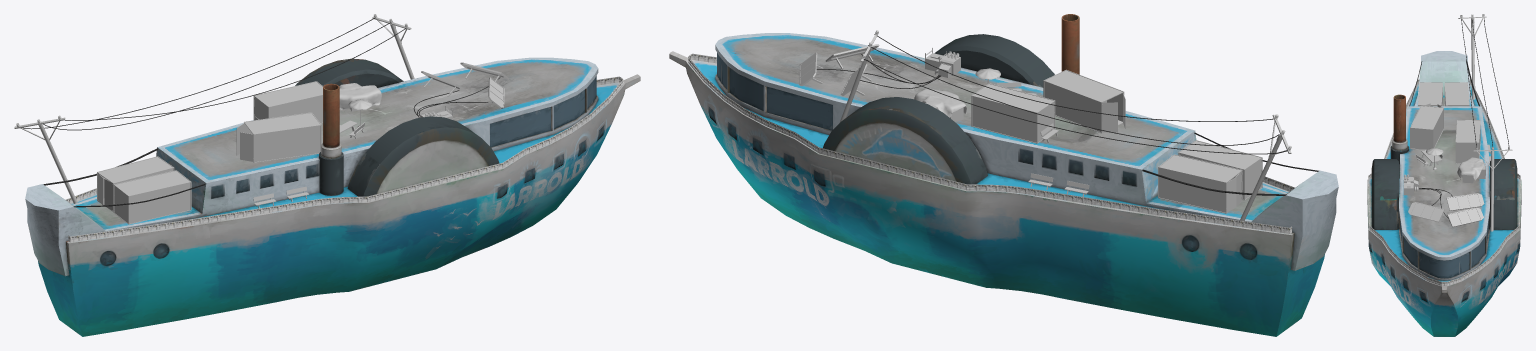
File: ShipLarge03.fbx
3 renders of one model, left to right at view 1: azimuth 30°, elevation 25°; view 2: azimuth 150°, elevation 25°; view 3: azimuth 270°, elevation 25°, orthographic. The views are drawn at different scales.
Parts seen in each view (by area): view 1: BoatL03, ContainersStatic, Rail, ContainerP2, PowerAssets, Powerline, DeckAssets01, ContainerP1; view 2: BoatL03, ContainersStatic, Rail, ContainerP1, ContainerP2, PowerAssets, Powerline, DeckAssets01, Cube.011; view 3: BoatL03, PowerAssets, ContainersStatic, ContainerP2, Rail, DeckAssets01, Powerline, ContainerP1.
Part boxes in pixels (box(x1,y1,x2,y2)): BoatL03: box(25, 57, 640, 336); ContainersStatic: box(113, 81, 323, 224); Rail: box(65, 76, 623, 242); ContainerP2: box(244, 112, 321, 162); PowerAssets: box(14, 14, 509, 203); Powerline: box(22, 18, 500, 207); DeckAssets01: box(253, 83, 381, 208); ContainerP1: box(97, 156, 174, 211); BoatL03: box(669, 14, 1338, 336); ContainersStatic: box(971, 83, 1262, 200); Rail: box(688, 53, 1294, 233); ContainerP1: box(1158, 154, 1242, 213); ContainerP2: box(1043, 69, 1124, 133); PowerAssets: box(799, 30, 1291, 220); Powerline: box(816, 34, 1318, 195); DeckAssets01: box(914, 68, 1089, 196); Cube.011: box(1102, 102, 1117, 132); BoatL03: box(1367, 51, 1521, 336); PowerAssets: box(1403, 14, 1512, 231); ContainersStatic: box(1418, 82, 1480, 163); ContainerP2: box(1410, 105, 1443, 150); Rail: box(1368, 79, 1520, 285); DeckAssets01: box(1416, 144, 1491, 183); Powerline: box(1409, 18, 1509, 218); ContainerP1: box(1444, 82, 1469, 106).
Bounding box in the file's own units: 8.41 × 2.47 × 2.73.
